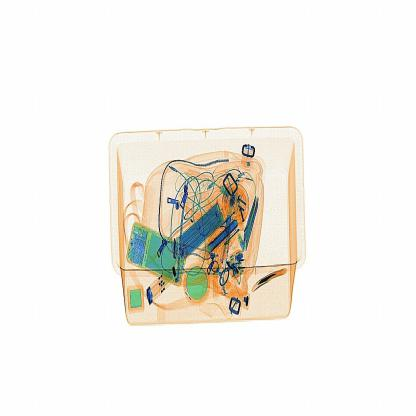wrench: (250, 262, 292, 290)
